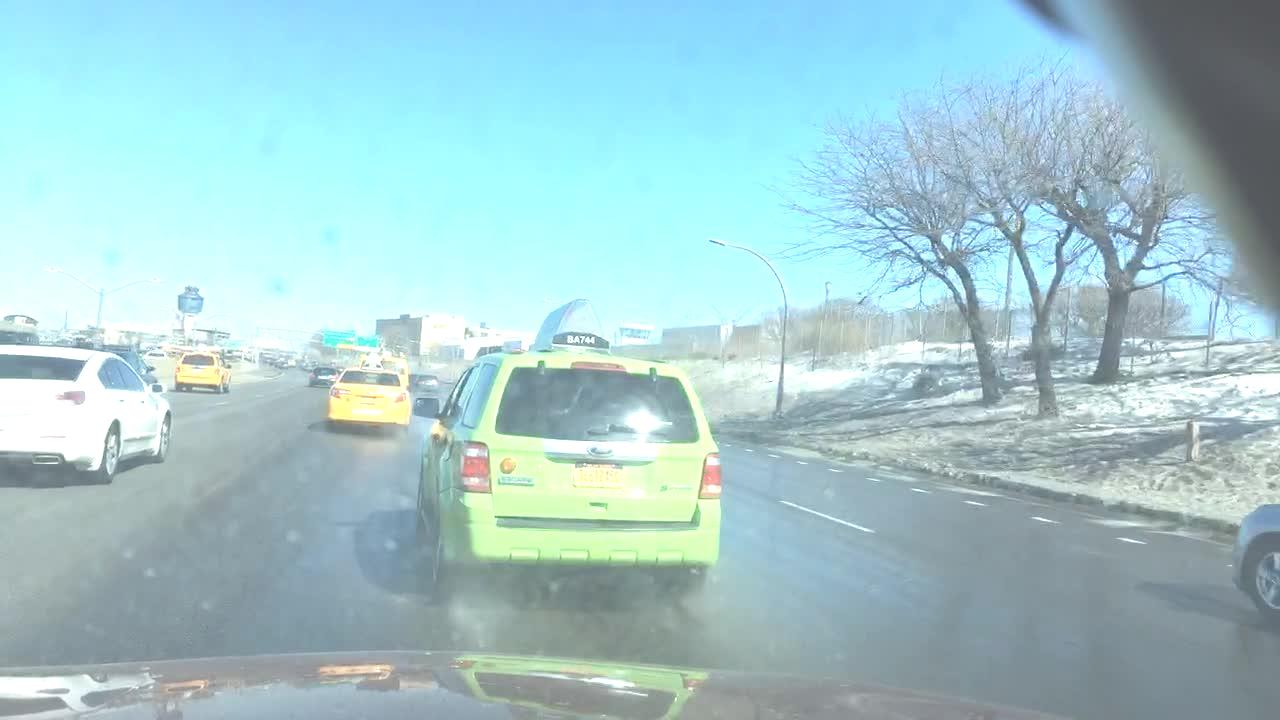ford: (580, 436, 636, 465)
